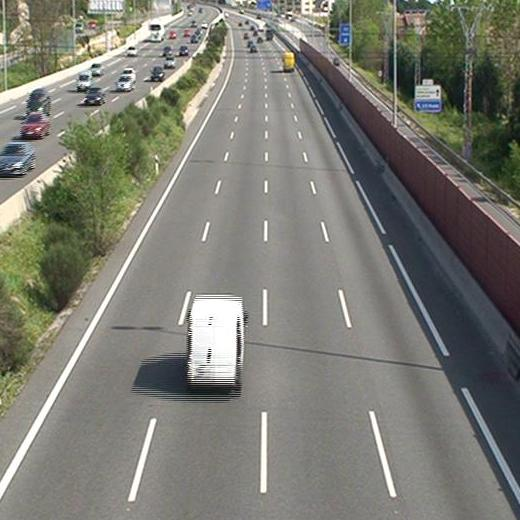van: (186, 295, 247, 390), (284, 50, 294, 72)
